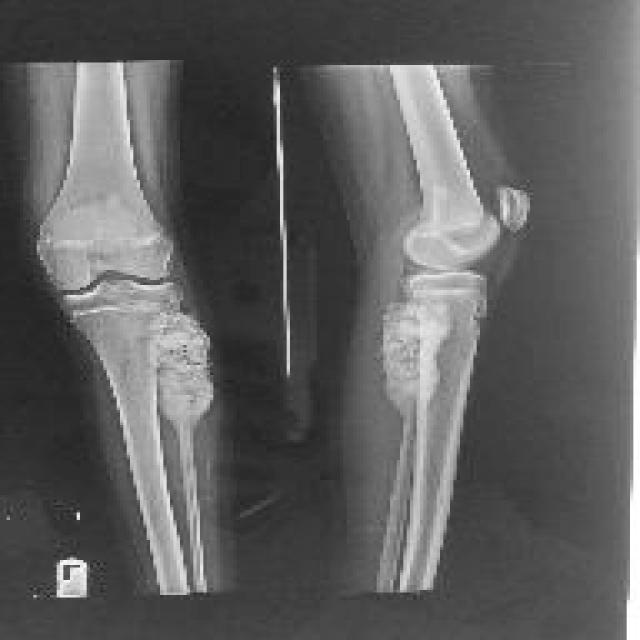bone-cancer: (144, 311, 213, 431), (383, 301, 453, 412)
